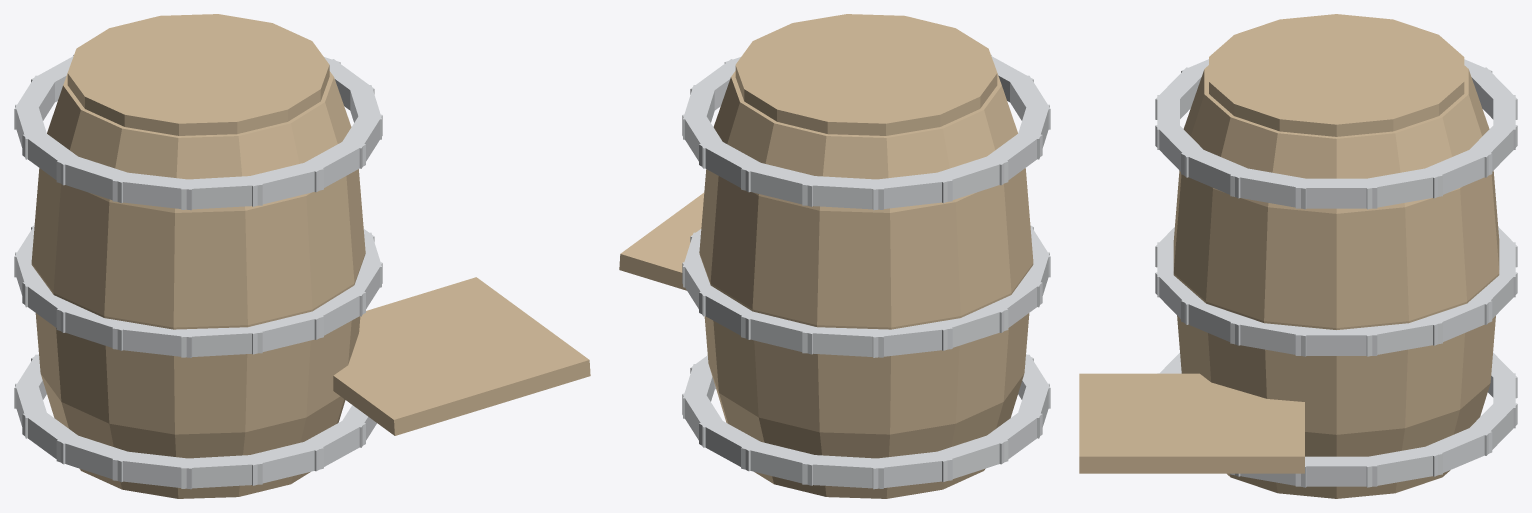
File: fish-market-and-trawler-quay-fish-market-and-trawler-q-ccddeffe__37306.glb
3 renders of one model, left to right at view 1: azimuth 30°, elevation 25°; view 2: azimuth 150°, elevation 25°; view 3: azimuth 270°, elevation 25°, orthographic.
Visible parts, largest first — view 1: fish-market-and-trawler-quay-bait-barrel; view 2: fish-market-and-trawler-quay-bait-barrel; view 3: fish-market-and-trawler-quay-bait-barrel.
Boxes of the visible parts, x1,y1,x2,y2 form: fish-market-and-trawler-quay-bait-barrel: (14, 14, 590, 498); fish-market-and-trawler-quay-bait-barrel: (619, 14, 1050, 498); fish-market-and-trawler-quay-bait-barrel: (1079, 14, 1517, 498).
Size of the model in its own units: 1.07 by 0.91 by 0.9714.
